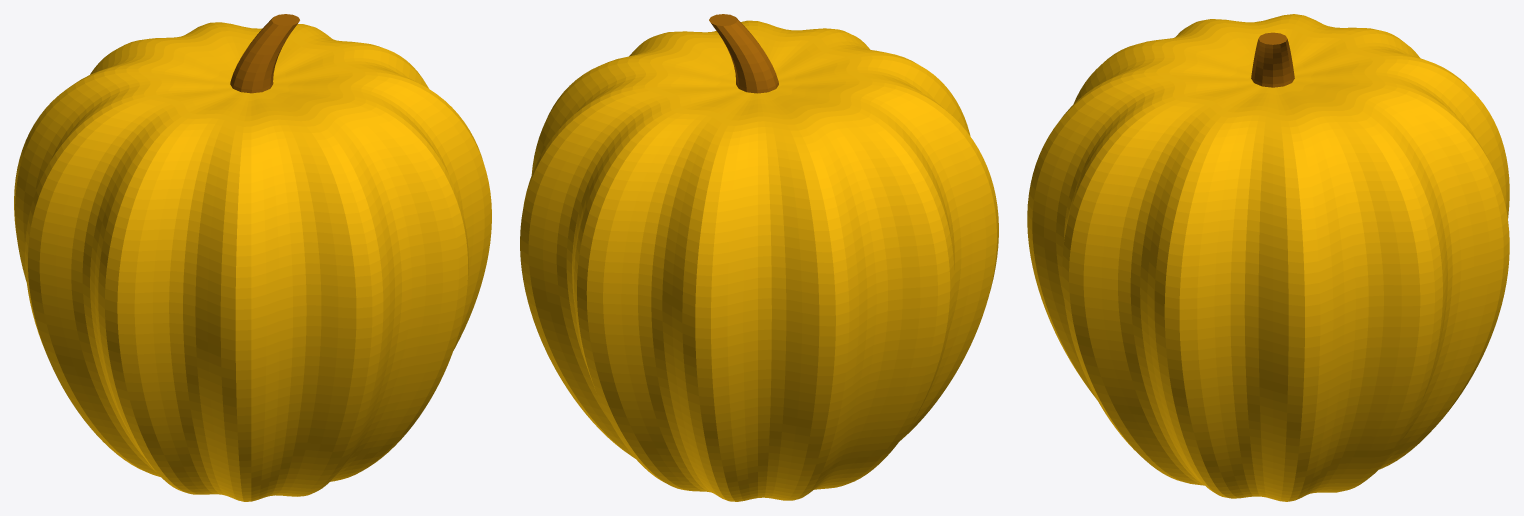
File: topheavy.glb
The picture shows the model from 3 angles, left to right: view 1: azimuth 30°, elevation 25°; view 2: azimuth 150°, elevation 25°; view 3: azimuth 270°, elevation 25°; orthographic projection.
Visible parts, largest first — view 1: body, lid, stem; view 2: body, lid, stem; view 3: body, lid, stem.
Boxes of the visible parts, <box> form: body: <box>14,62,491,501</box>; lid: <box>52,22,453,203</box>; stem: <box>230,14,299,93</box>; body: <box>520,81,998,501</box>; lid: <box>558,20,960,202</box>; stem: <box>709,14,778,93</box>; body: <box>1027,53,1509,501</box>; lid: <box>1066,14,1471,198</box>; stem: <box>1251,32,1294,87</box>.
Size of the model in its own units: 2.17 by 2.17 by 2.15.
